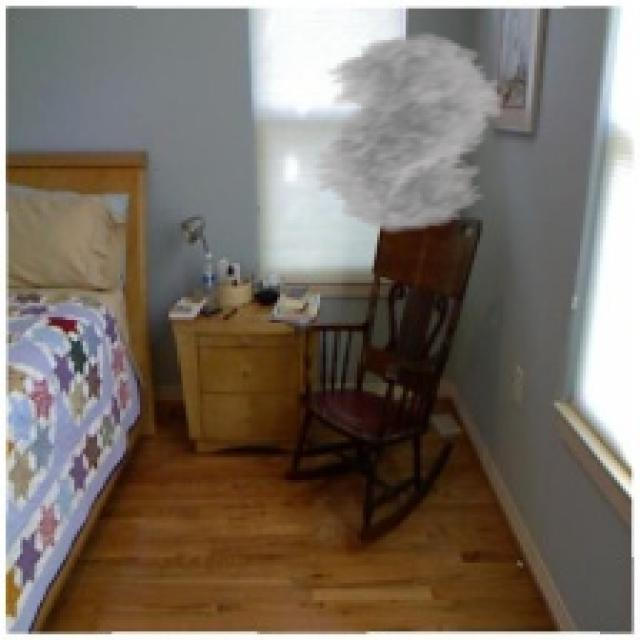smoke: (288, 32, 523, 235)
